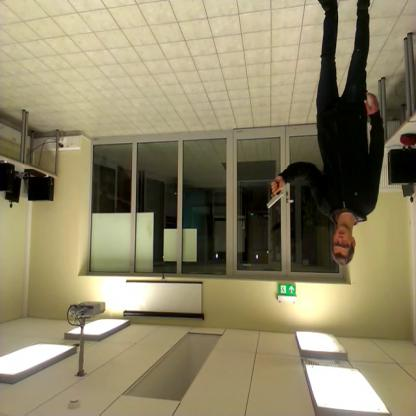Pistol: (266, 163, 286, 213)
